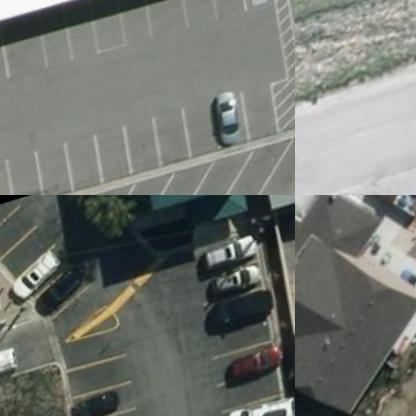car: (0, 248, 65, 307), (206, 294, 277, 340), (206, 88, 251, 153), (204, 267, 263, 308), (196, 238, 255, 279), (34, 274, 86, 320), (362, 195, 415, 235), (231, 350, 286, 388), (66, 389, 125, 415), (224, 397, 294, 415), (0, 349, 19, 391)
